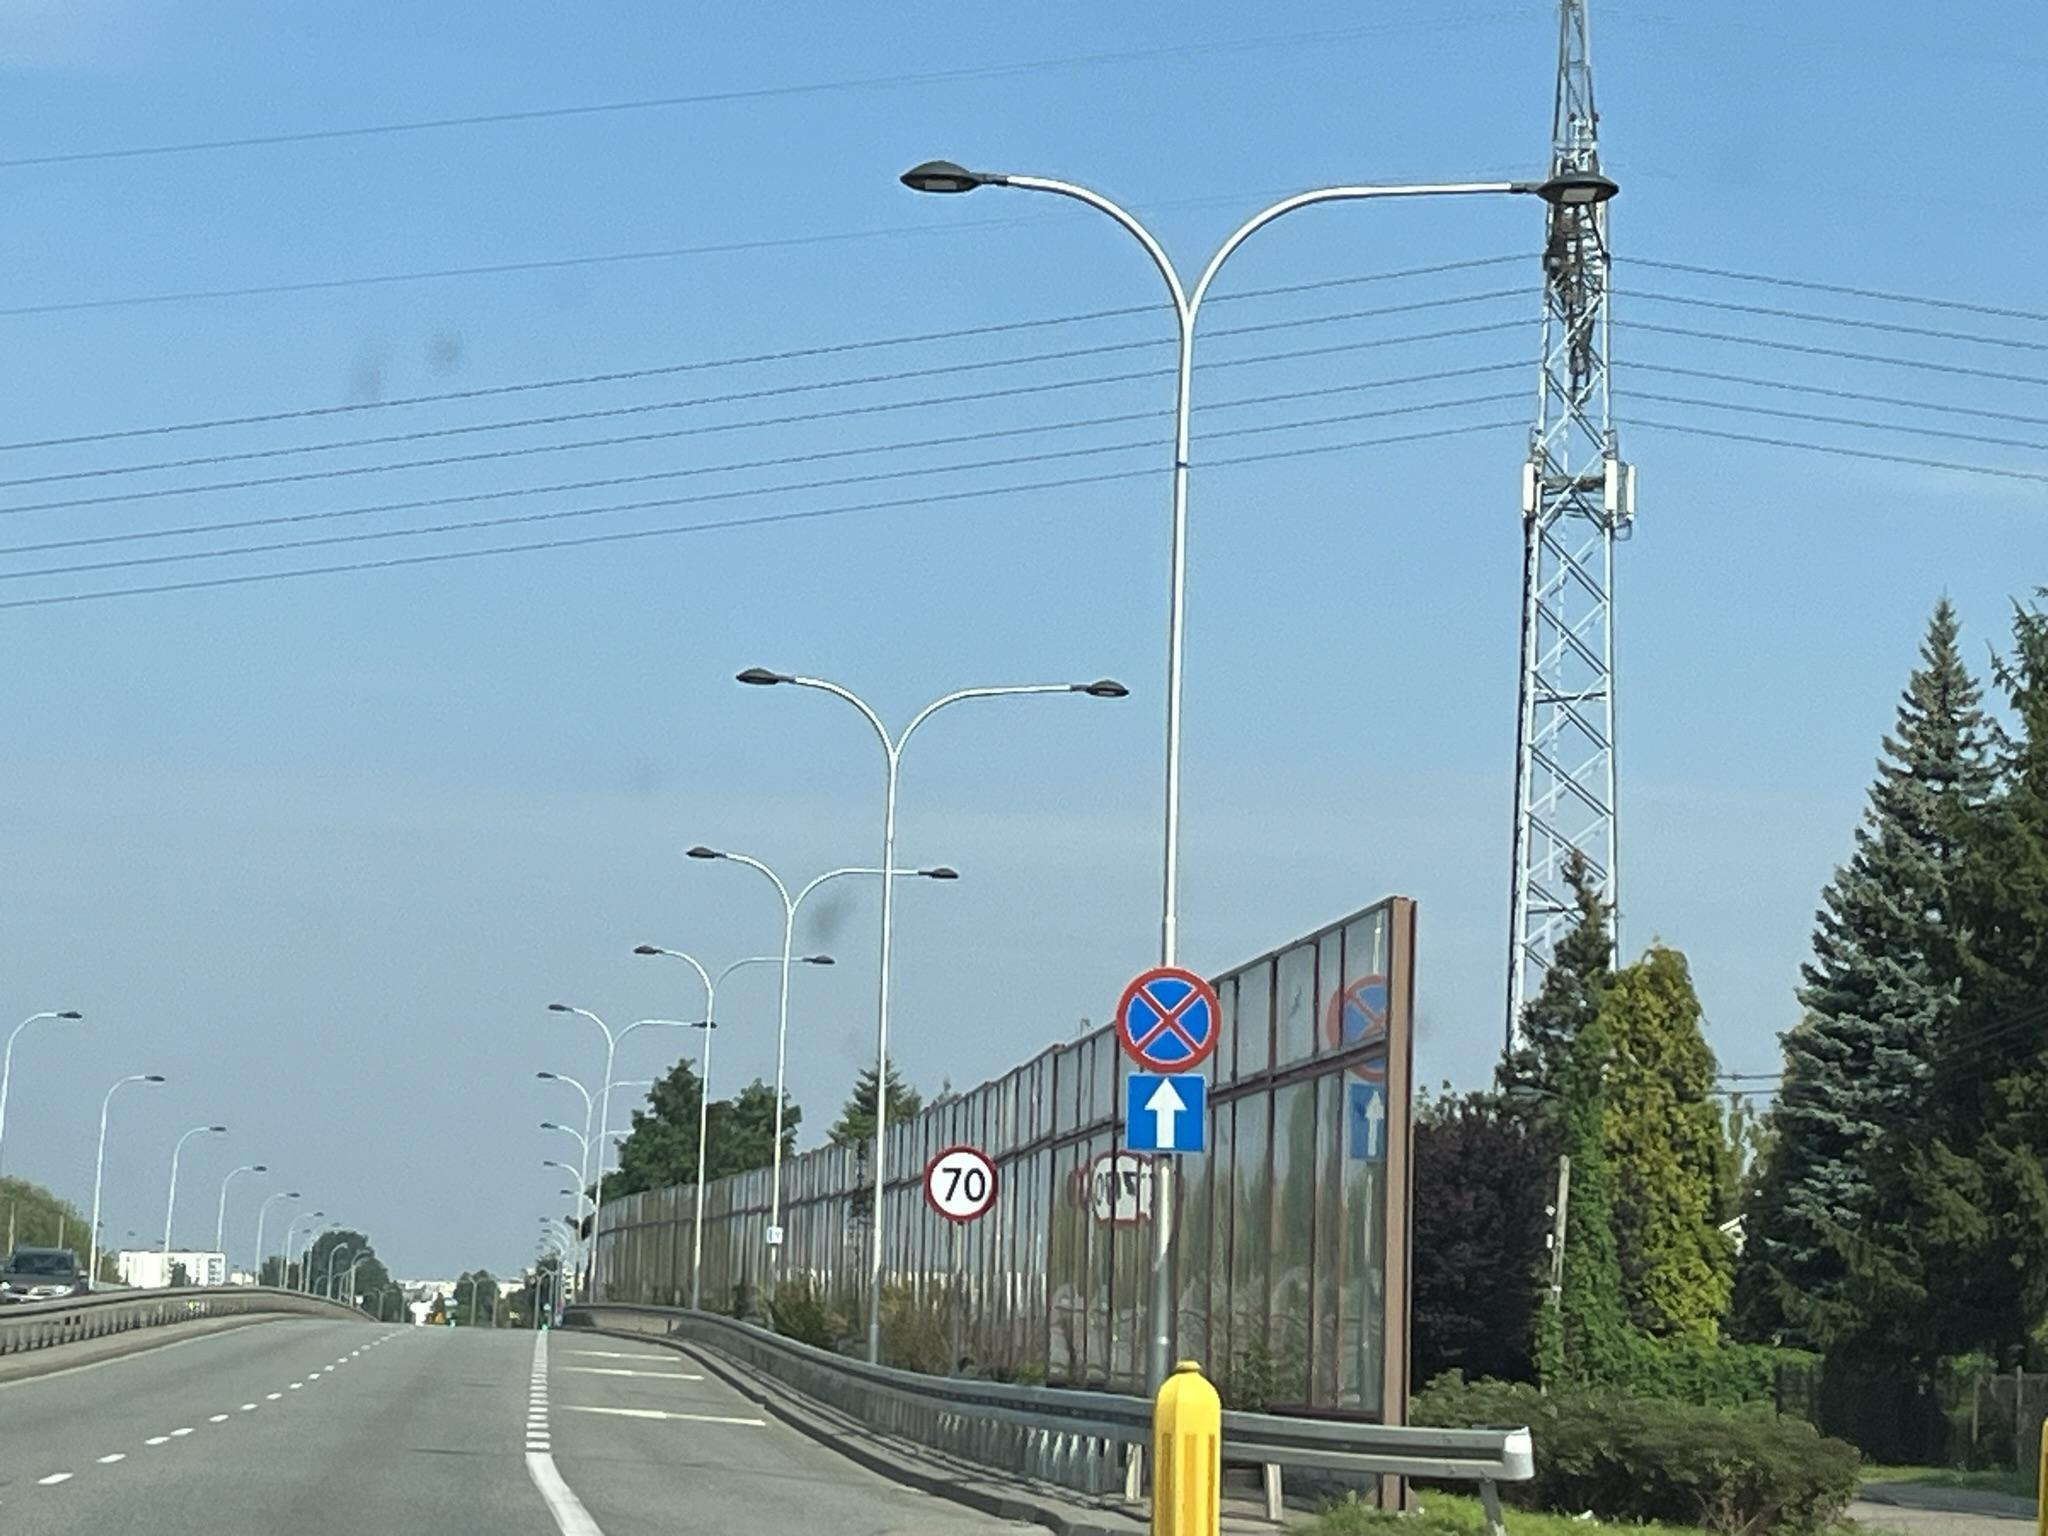information: (1127, 1075, 1208, 1154)
prohibitory: (1114, 963, 1222, 1075), (924, 1147, 1001, 1223)
